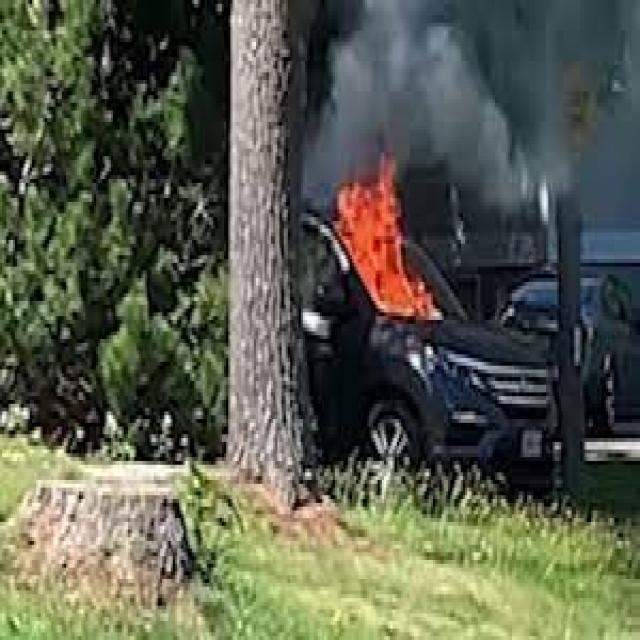fire: (330, 160, 440, 320)
smoke: (305, 4, 557, 217)
